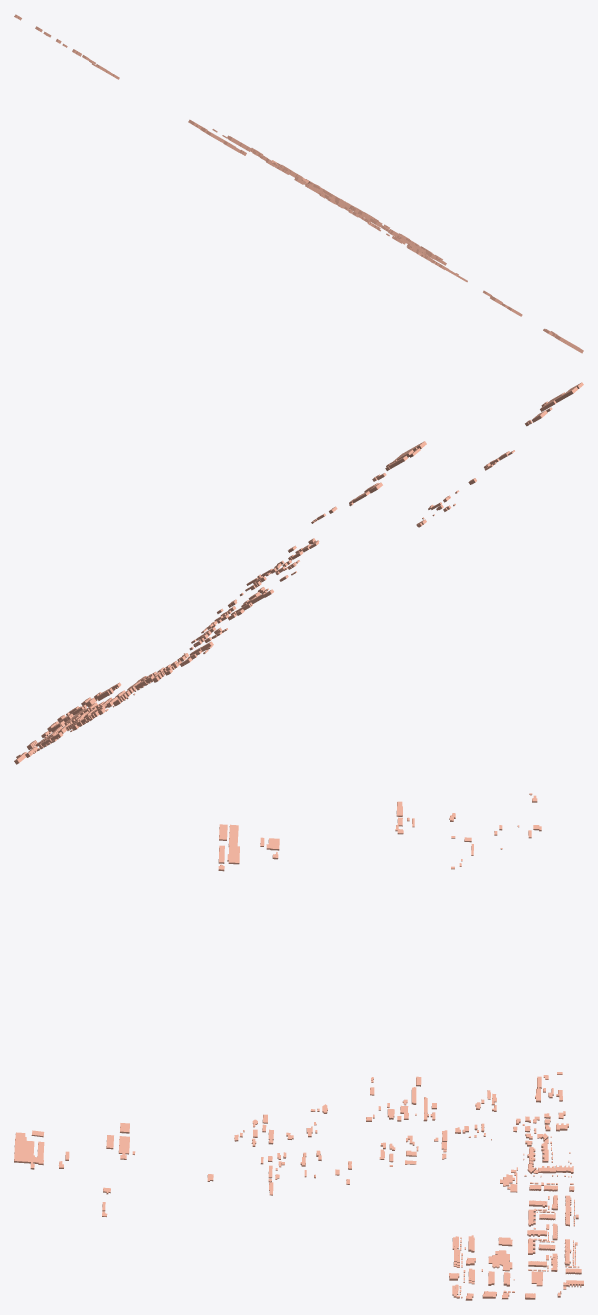
The picture shows the model from 3 angles, top to bottom: view 1: azimuth 30°, elevation 25°; view 2: azimuth 150°, elevation 25°; view 3: azimuth 270°, elevation 25°; orthographic projection. The views are drawn at different scales.
Size of the model in its own units: 969 by 748 by 1216.
